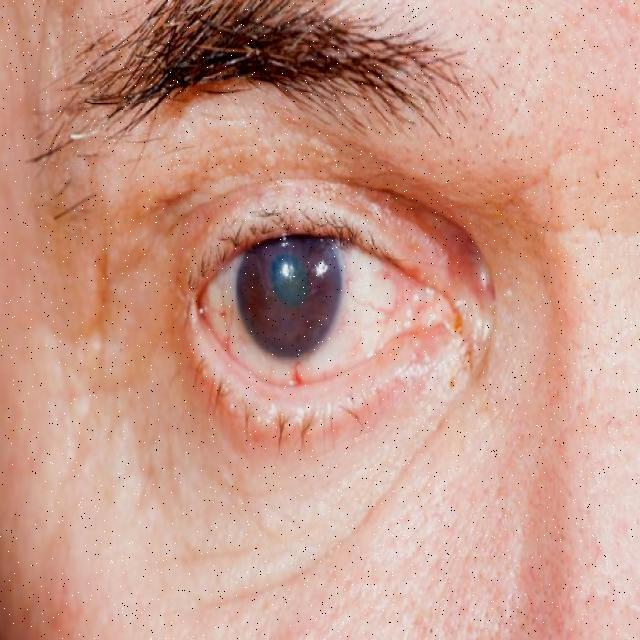Cataract: (229, 226, 347, 356)
